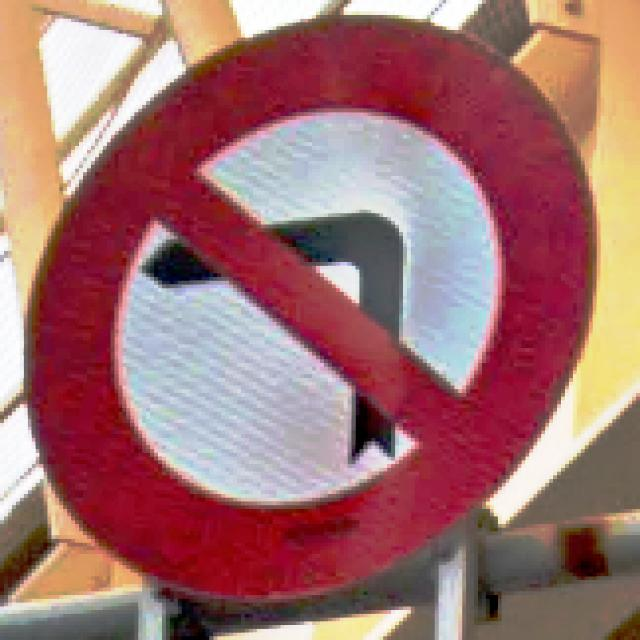noturnleft: (19, 11, 596, 606)
